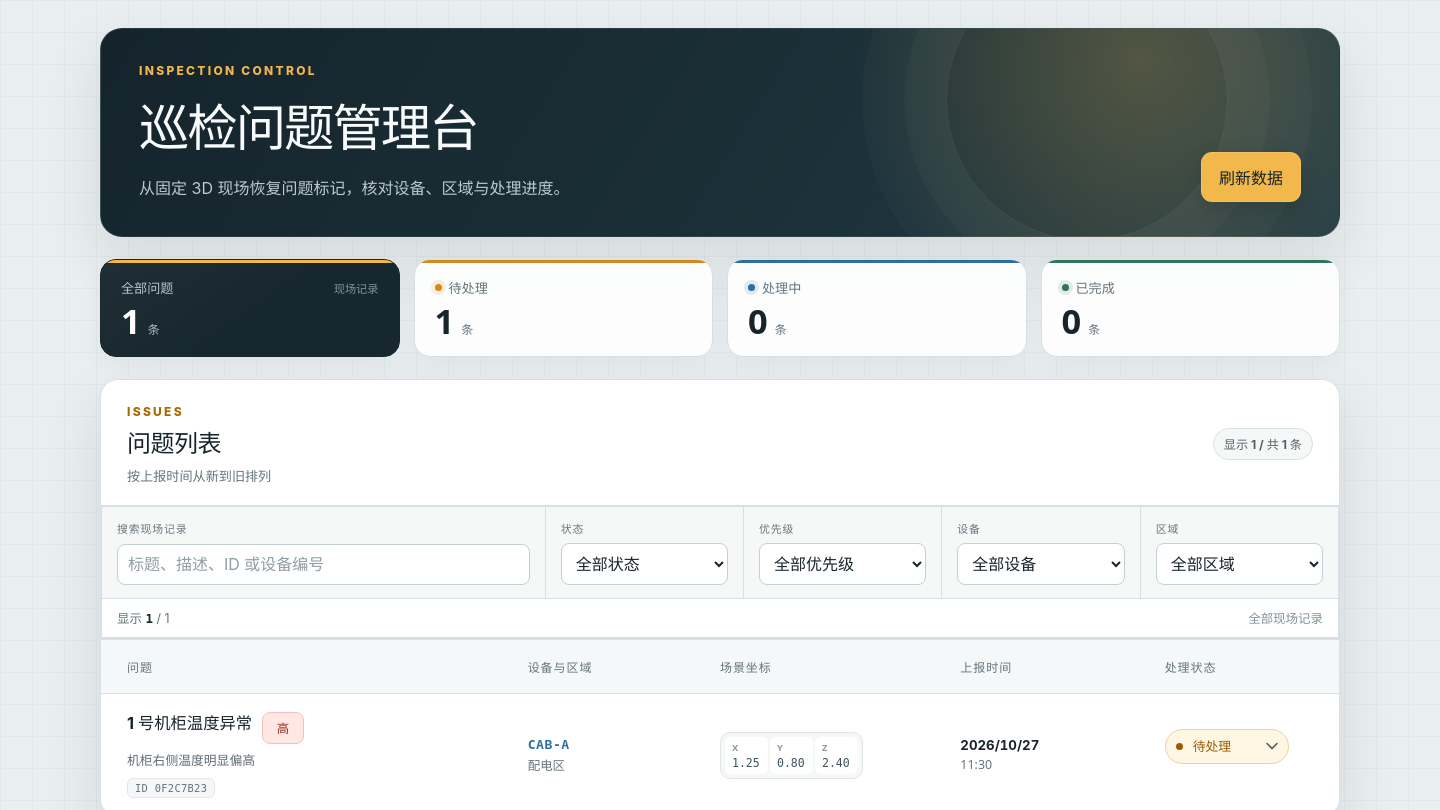
inspection issue dashboard › loads and renders issue fields
Expected: the text "高" is shown, [262,712,304,744]
Expected: the element named "场景坐标 X 1.25，Y 0.80，Z 2.40" is shown, [720,732,863,778]
Click the button "1 号机柜温度异常".
click(190, 723)  # box [127,712,252,734]
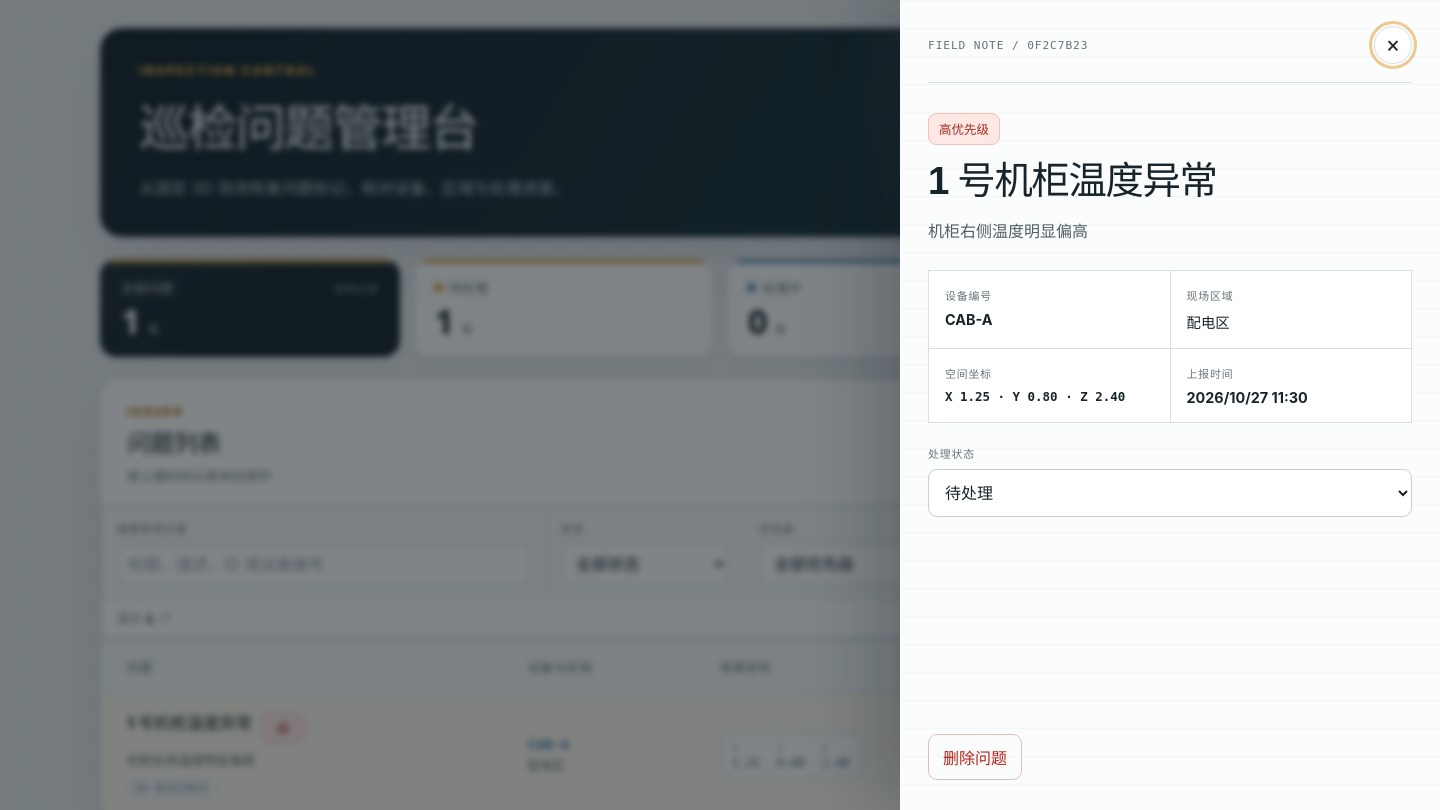
Expected: the dialog "1 号机柜温度异常" is shown, [900,0,1439,809]
Expected: the text "机柜右侧温度明显偏高" is shown, [928,221,1088,241]
Expected: the text "现场区域" is shown, [1186,288,1234,302]
